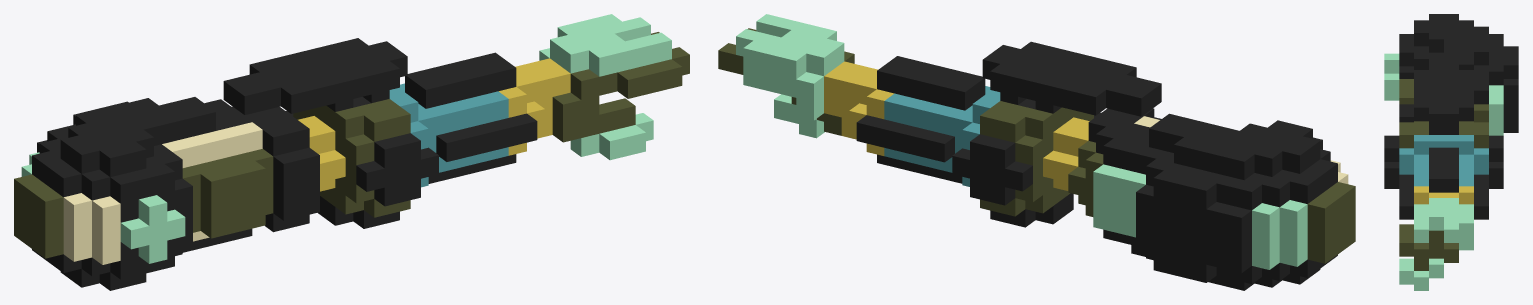
The model's file is speed_mecha-7.obj.
3 renders of one model, left to right at view 1: azimuth 30°, elevation 25°; view 2: azimuth 150°, elevation 25°; view 3: azimuth 270°, elevation 25°, orthographic. The views are drawn at different scales.
Parts seen in each view (by area): view 1: speed_mecha-7; view 2: speed_mecha-7; view 3: speed_mecha-7.
Part boxes in pixels (x1=…): speed_mecha-7: x1=14, y1=14, x2=689, y2=290; speed_mecha-7: x1=718, y1=14, x2=1355, y2=290; speed_mecha-7: x1=1384, y1=14, x2=1518, y2=290.
Size of the model in its own units: 35 by 8 by 9.
1 material, 1 textured.
